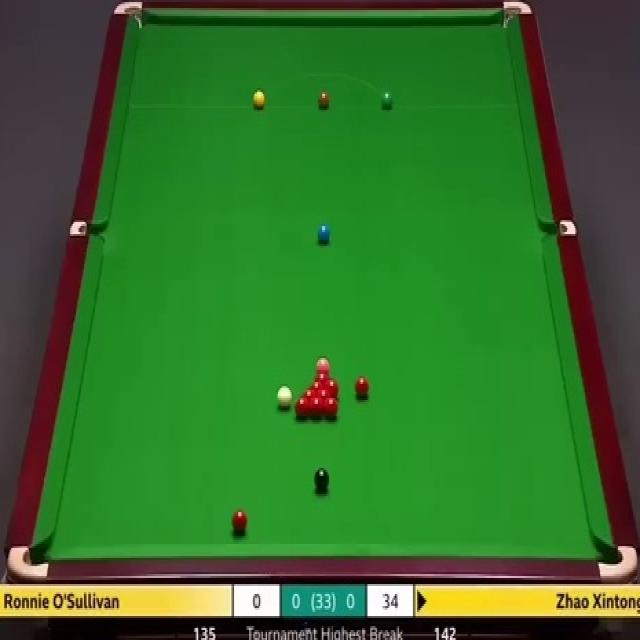pocket: (596, 543, 637, 582), (10, 548, 48, 578), (114, 0, 143, 34), (502, 0, 531, 31), (70, 218, 105, 238), (541, 218, 576, 238)
